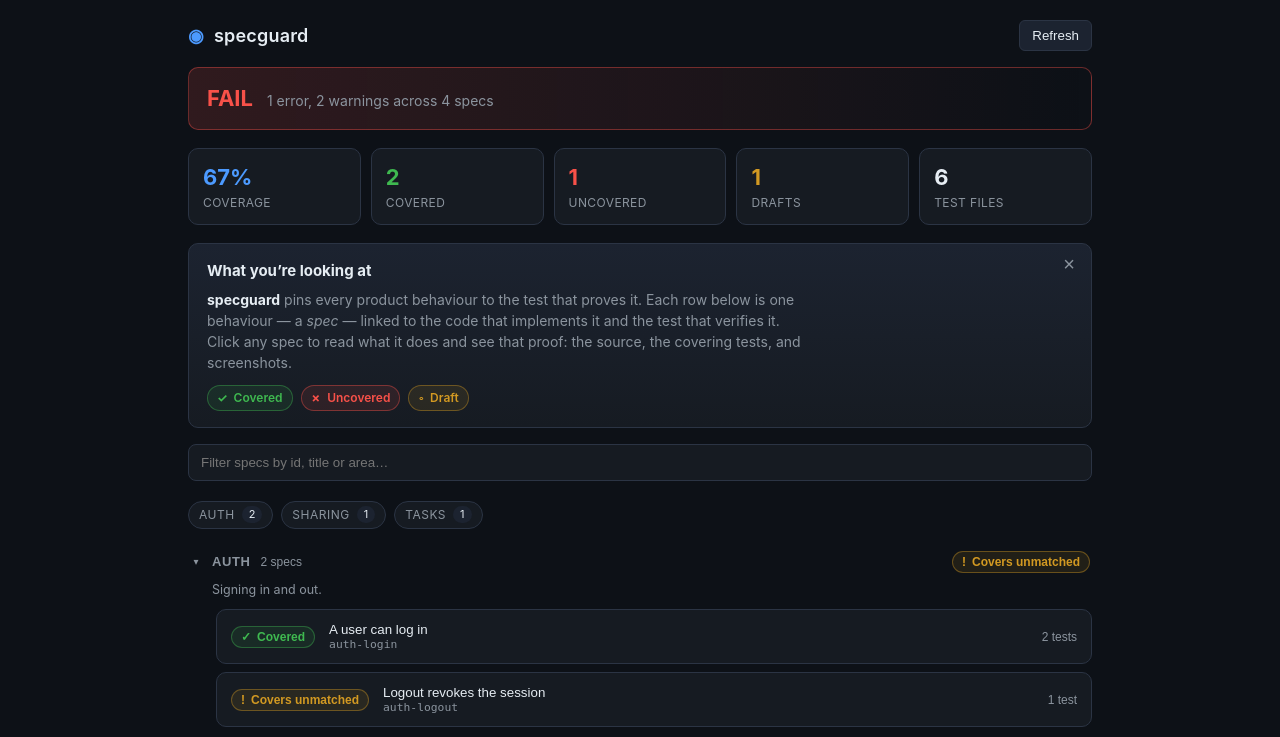
Test: Dashboard › collapses an area, hiding its rows, and expands it again
Expected: the button with test id "spec-row-auth-login" is shown, [216,609,1092,664]
Click the button with test id "area-toggle-auth" at (231, 562), box [188,546,1092,576]
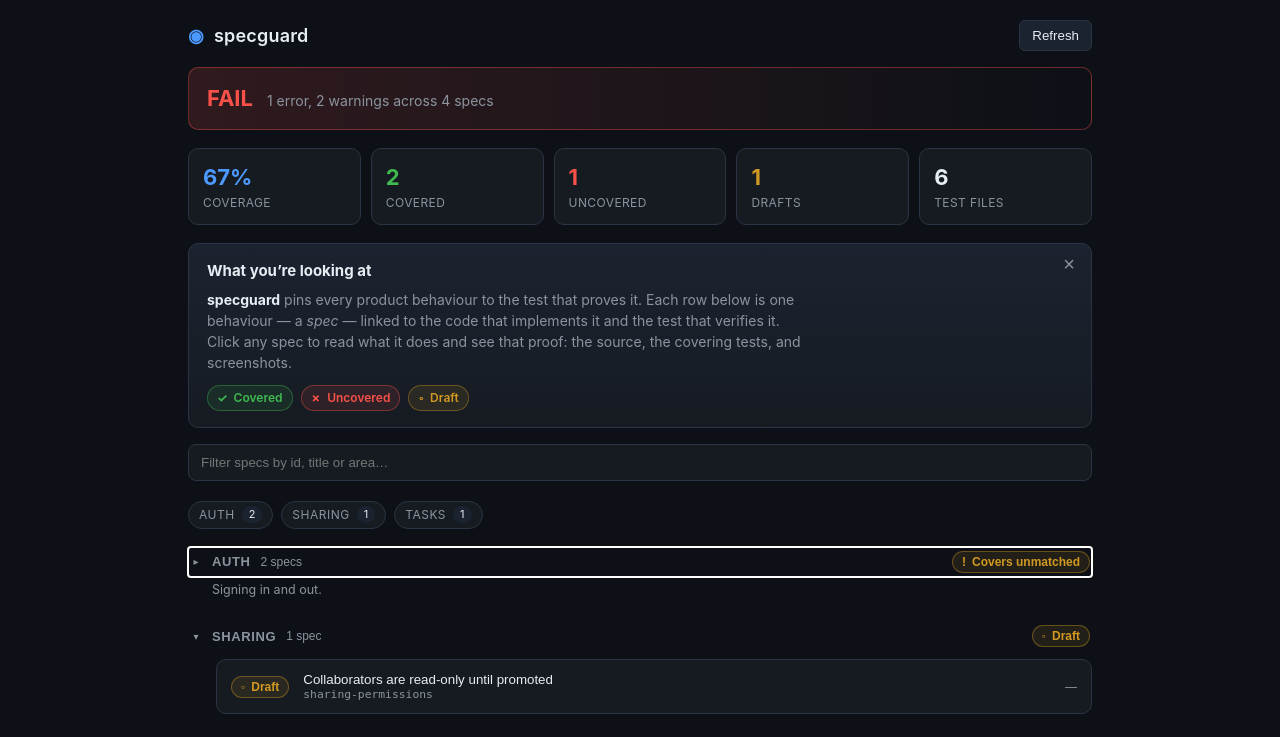
Expected: the button with test id "spec-row-auth-login" is gone
Click the button with test id "area-toggle-auth" at (231, 562), box [188,546,1092,576]
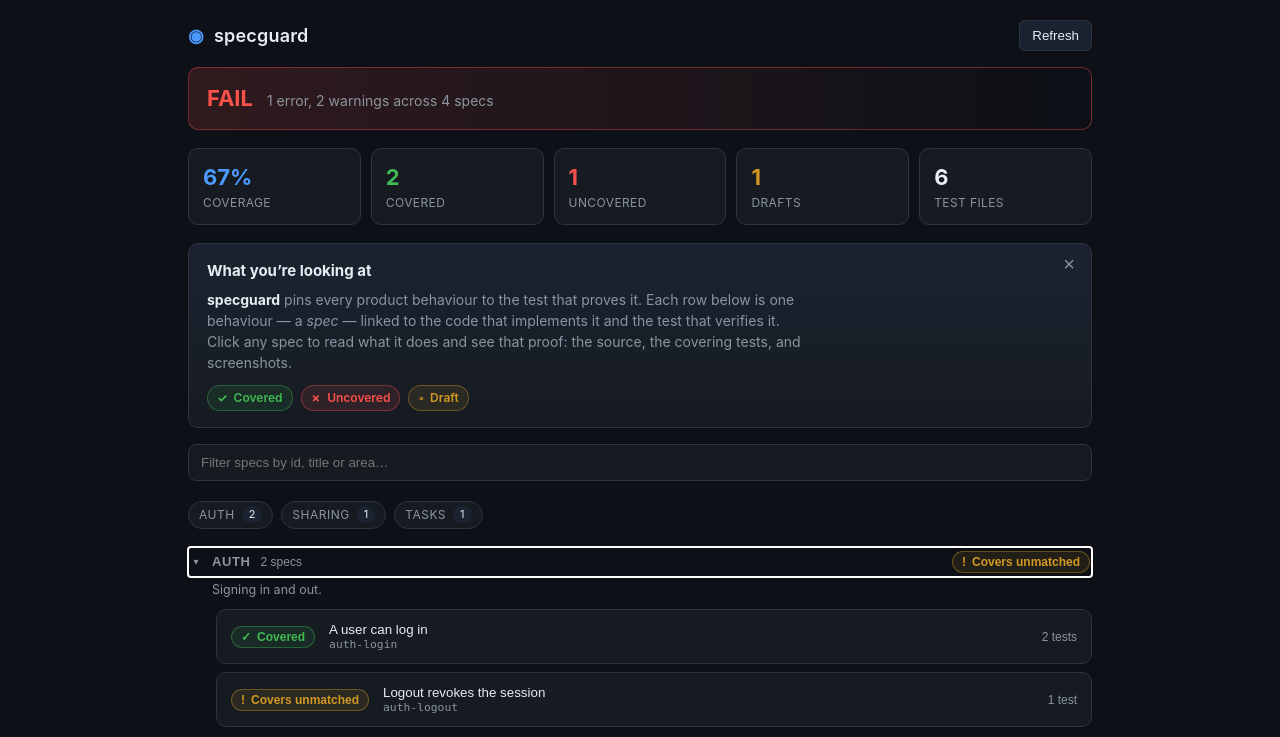
Expected: the button with test id "spec-row-auth-login" is shown, [216,609,1092,664]
